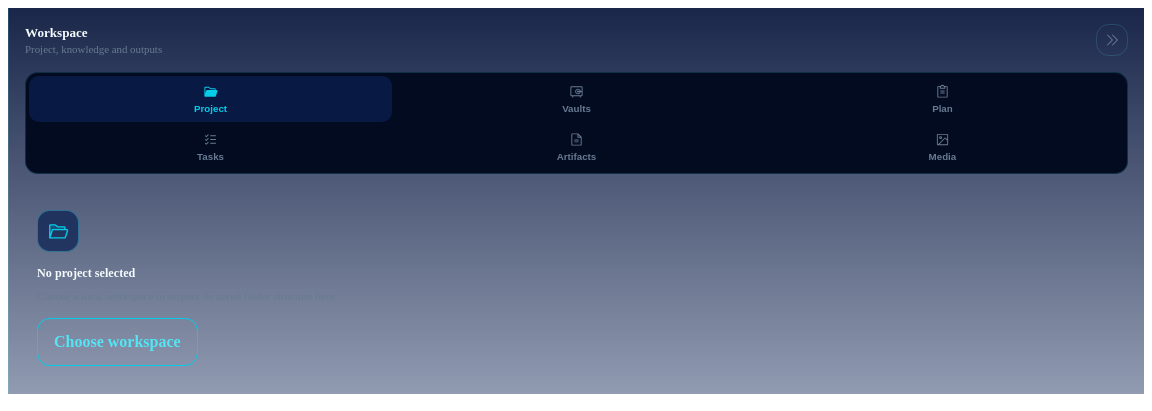
Test: ConversationContextPanel › states the live read-only boundary of Agent mode
Click the tab "Plan".
click(942, 99)  # box [761,76,1124,122]
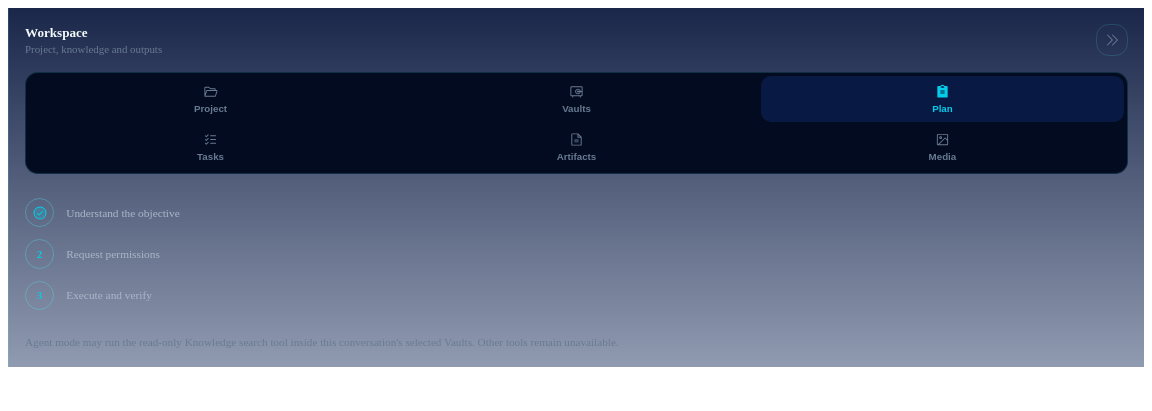
Now the text "Execute and verify" is shown, box [66,289,152,301]
Now the text "read-only Knowledge search tool" is shown, box [25,336,619,348]
